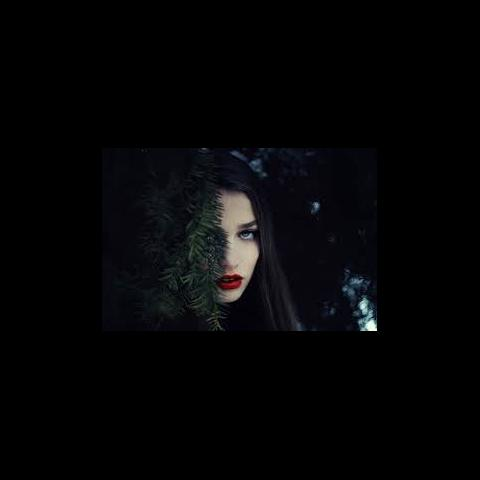opened: (220, 222, 268, 250)
